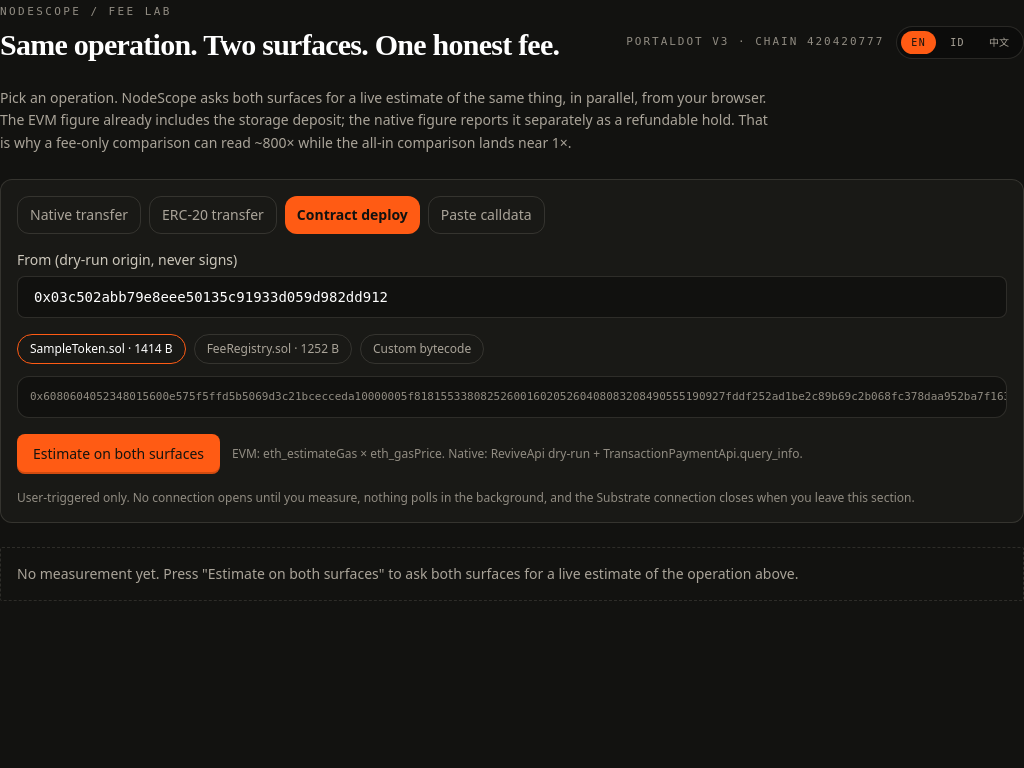
FeeLabPanel › still renders the EVM leg when the native connection times out
This screenshot has width=1024, height=768.
What coordinates should you click on to do the following:
click the button "Estimate on both surfaces"
I would click on:
 (118, 454)
Its box is [17,434,220,474].
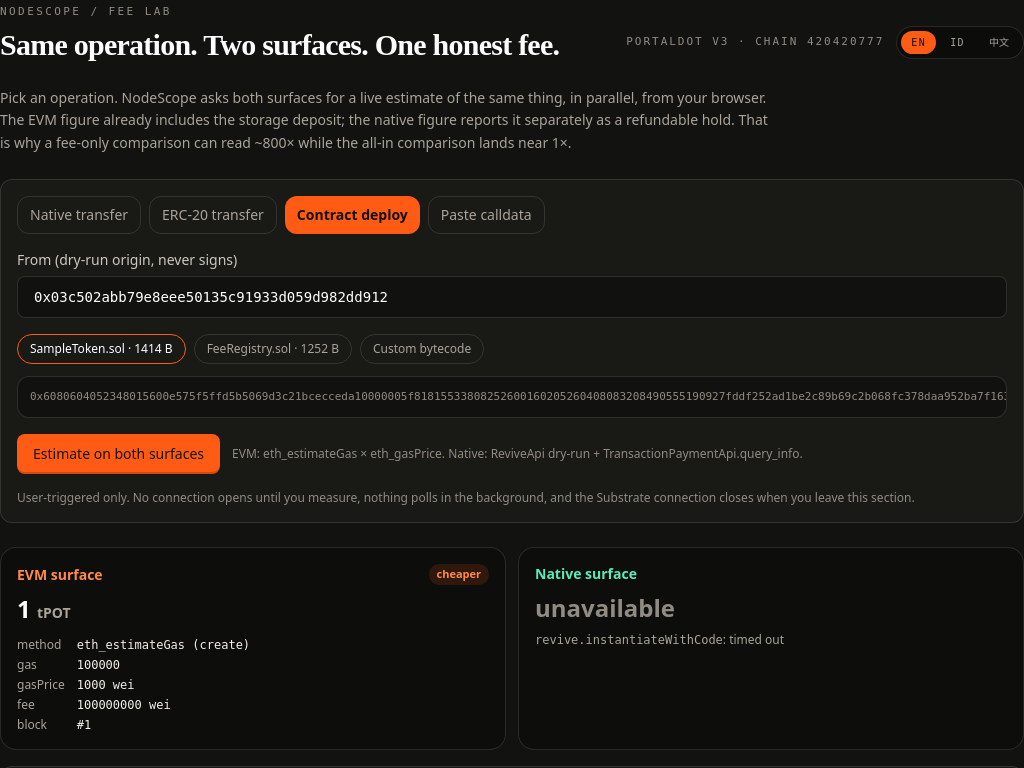
Expected: the text "eth_estimateGas (create)" is shown, [77,638,250,652]
Expected: the text "100000" is shown, [77,658,120,672]
Expected: the text "unavailable" is shown, [535,591,675,624]
